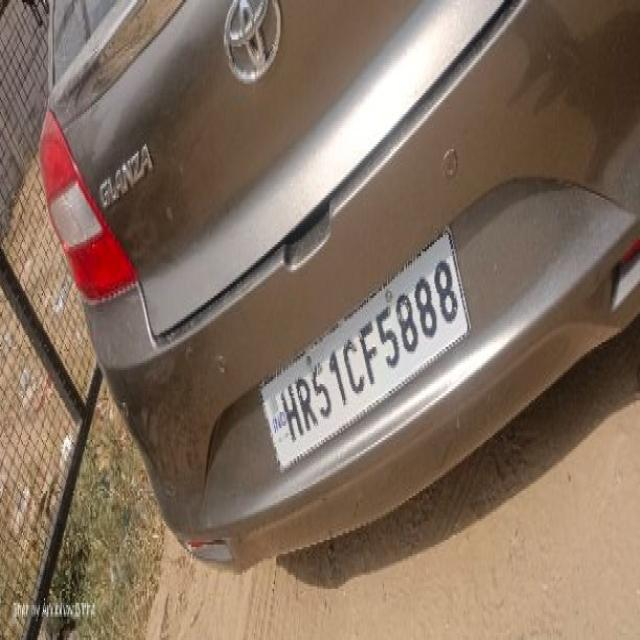license_plate: (38, 0, 638, 568), (257, 221, 471, 473)
